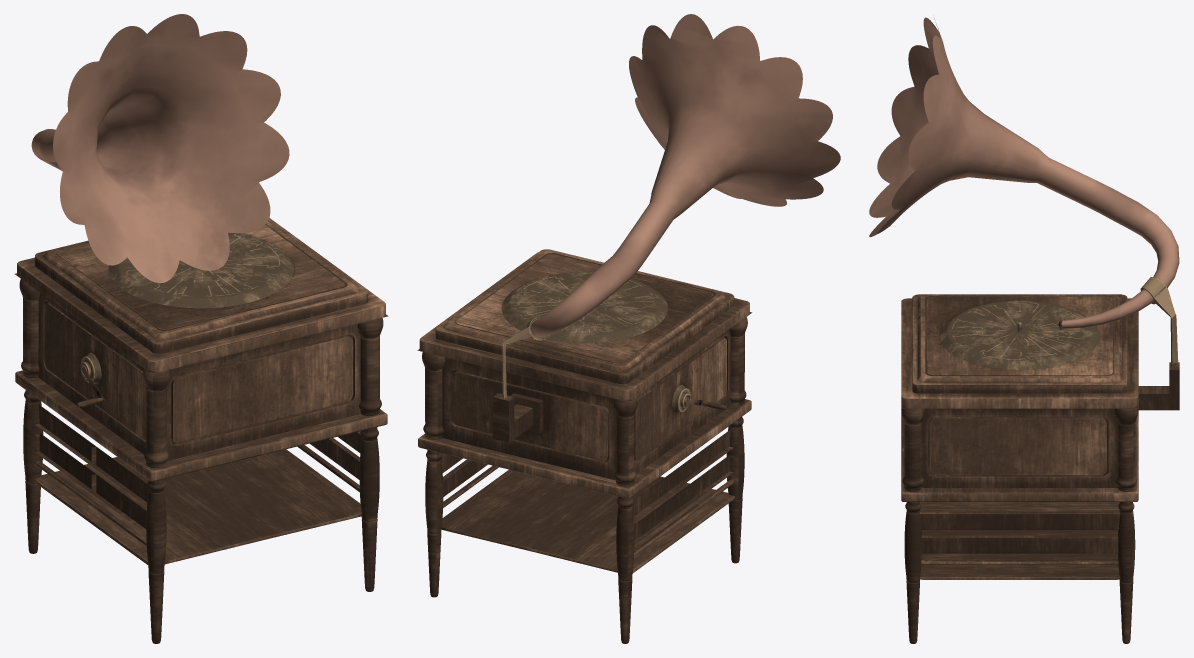
The model's file is phonograph.glb.
3 renders of one model, left to right at view 1: azimuth 30°, elevation 25°; view 2: azimuth 150°, elevation 25°; view 3: azimuth 270°, elevation 25°, orthographic. The views are drawn at different scales.
Visible parts, largest first — view 1: speeker_speeker_0.363; view 2: speeker_speeker_0.363; view 3: speeker_speeker_0.363.
Boxes of the visible parts, x1=… form: speeker_speeker_0.363: x1=14, y1=14, x2=388, y2=643; speeker_speeker_0.363: x1=417, y1=14, x2=840, y2=643; speeker_speeker_0.363: x1=869, y1=17, x2=1179, y2=643.
Bounding box in the file's own units: 0.9412 × 1.66 × 0.8826.
Materials: 3 (3 with a texture image).
